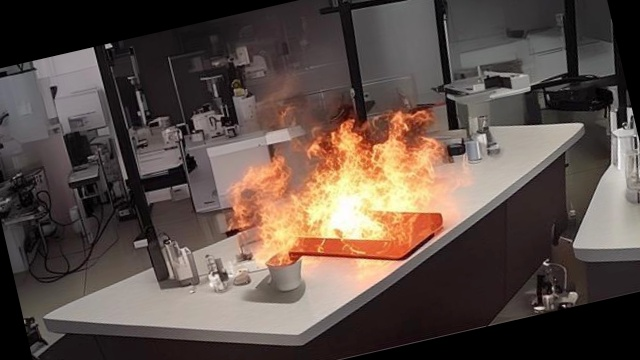fire: (202, 72, 466, 310)
